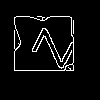Z: (22, 22, 77, 70)
